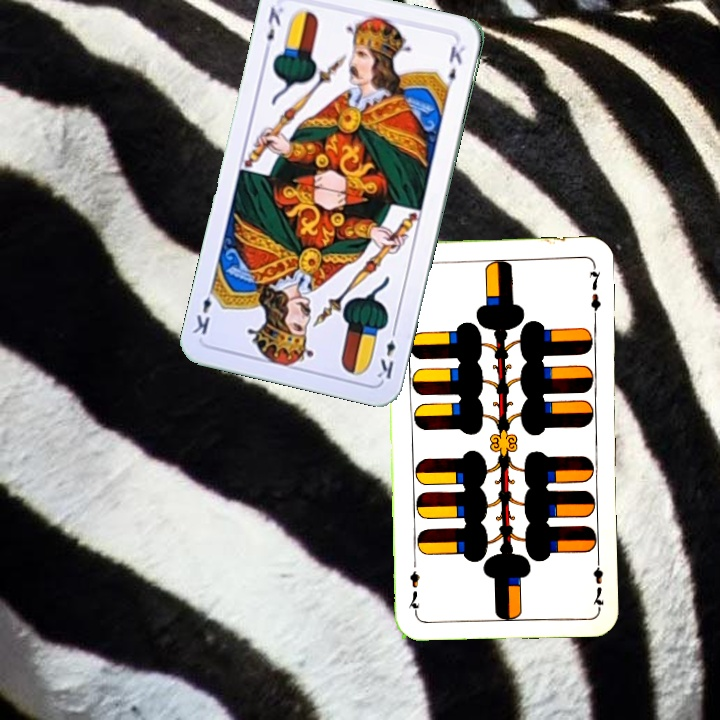E7: (589, 551, 607, 610)
EK: (373, 323, 399, 382), (260, 3, 286, 56)
